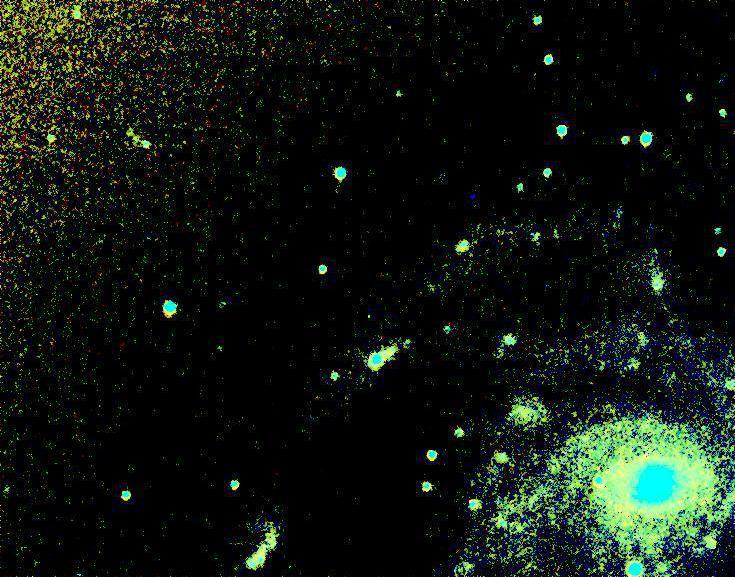star: (355, 303, 385, 333)
